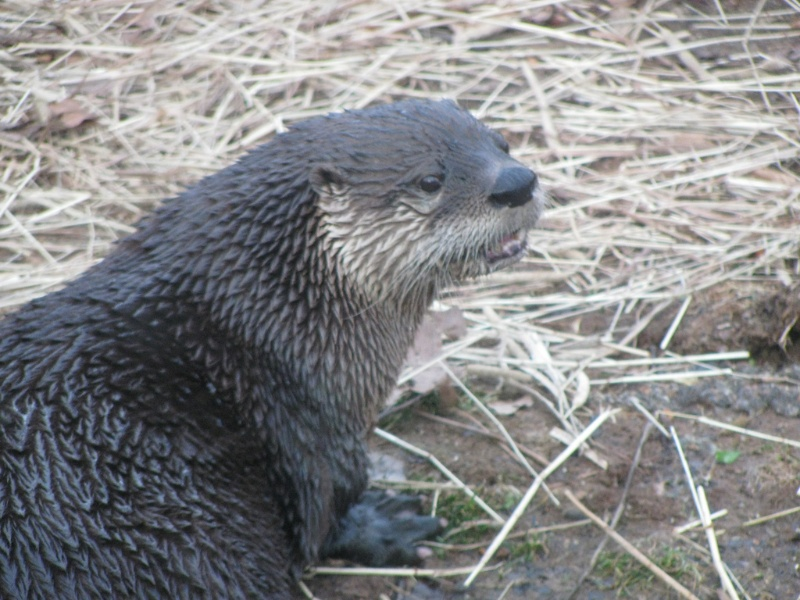minkish: (15, 87, 544, 582)
